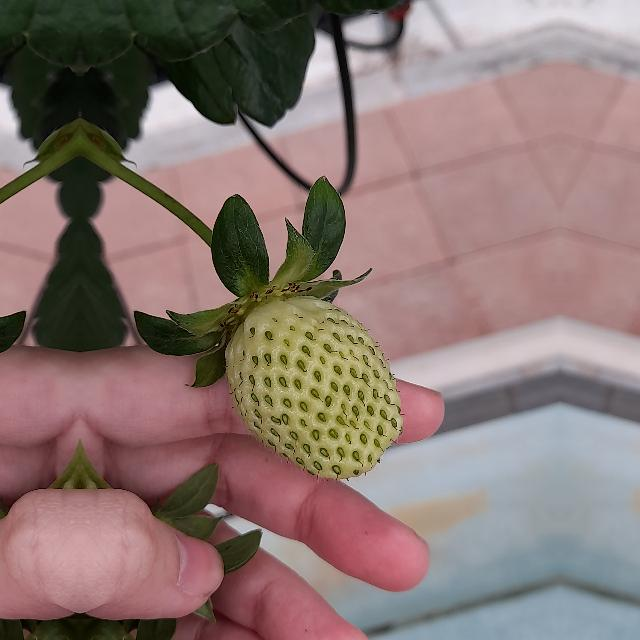Health_25: (225, 294, 403, 480)
